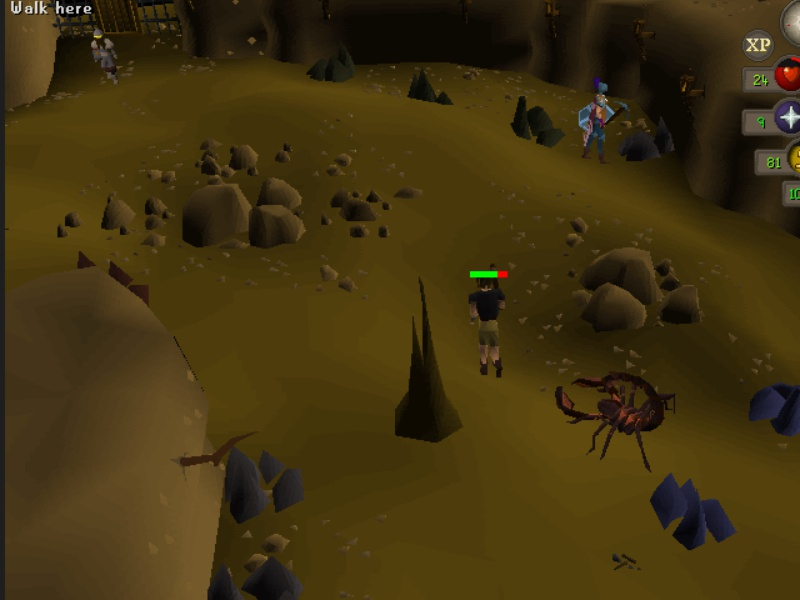coal: (509, 94, 569, 151), (303, 39, 361, 85), (405, 66, 457, 111)
mithril: (646, 468, 738, 553), (743, 378, 800, 441)
